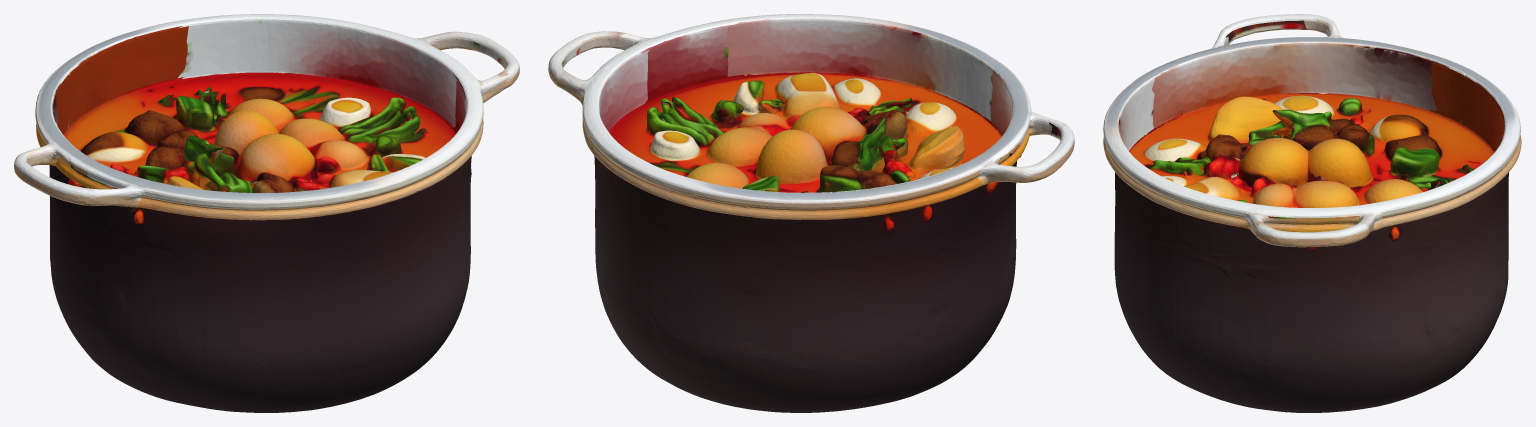
The model's file is hotpot_hunyuan3d-2.0_delight.glb.
3 views of the same model, side by side, from view 1: azimuth 30°, elevation 25°; view 2: azimuth 150°, elevation 25°; view 3: azimuth 270°, elevation 25° (orthographic). The views are drawn at different scales.
Parts seen in each view (by area): view 1: temp_mesh.ply; view 2: temp_mesh.ply; view 3: temp_mesh.ply.
Boxes of the visible parts, bbox=[...] form: temp_mesh.ply: bbox=[14, 14, 519, 412]; temp_mesh.ply: bbox=[548, 14, 1074, 412]; temp_mesh.ply: bbox=[1103, 14, 1521, 412].
Size of the model in its own units: 1.99 by 0.9926 by 1.58.
1 material, 1 textured.
